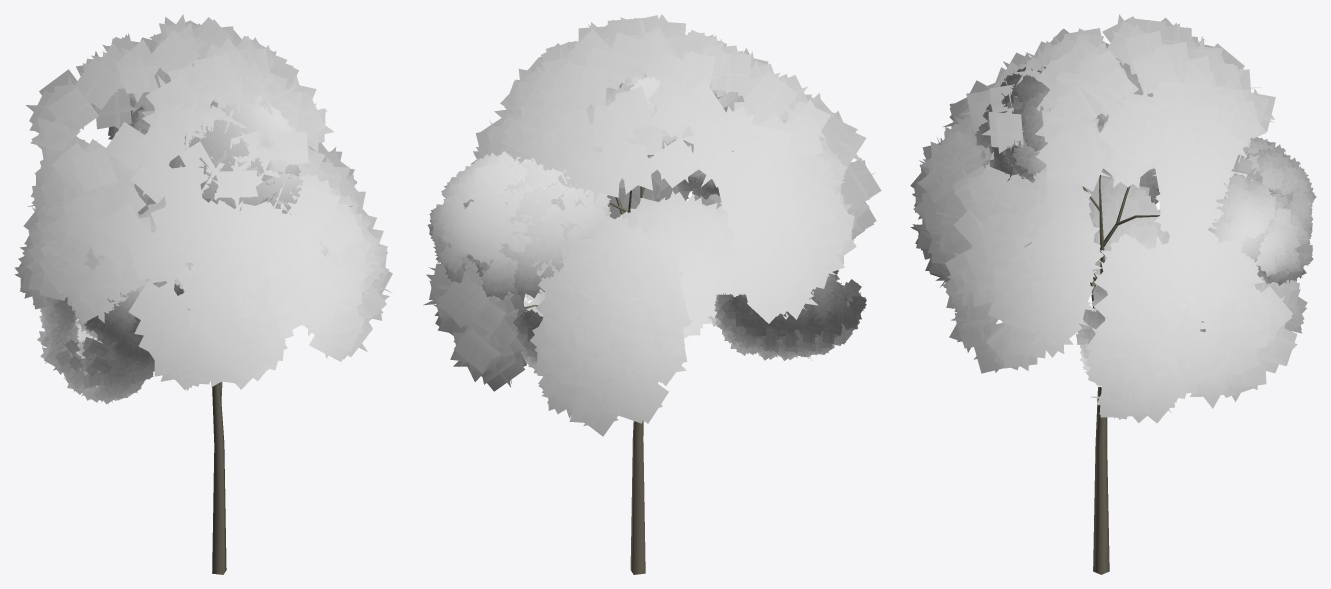
Rendered from tree.fbx.
The picture shows the model from 3 angles, left to right: view 1: azimuth 30°, elevation 25°; view 2: azimuth 150°, elevation 25°; view 3: azimuth 270°, elevation 25°; orthographic projection. The views are drawn at different scales.
Parts seen in each view (by area): view 1: Leaves00, Trunk00; view 2: Leaves00, Trunk00; view 3: Leaves00, Trunk00.
Part boxes in pixels (x1=…): Leaves00: x1=14, y1=14, x2=392, y2=404; Trunk00: x1=104, y1=129, x2=351, y2=574; Leaves00: x1=423, y1=14, x2=881, y2=436; Trunk00: x1=523, y1=155, x2=811, y2=574; Leaves00: x1=910, y1=14, x2=1316, y2=423; Trunk00: x1=1024, y1=175, x2=1159, y2=574.
Bounding box in the file's own units: 488 × 493 × 715.
